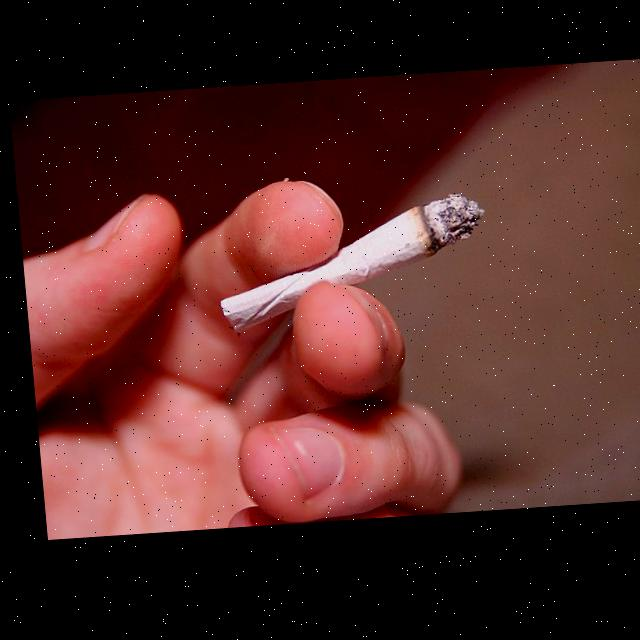cigarette: (208, 196, 489, 339)
